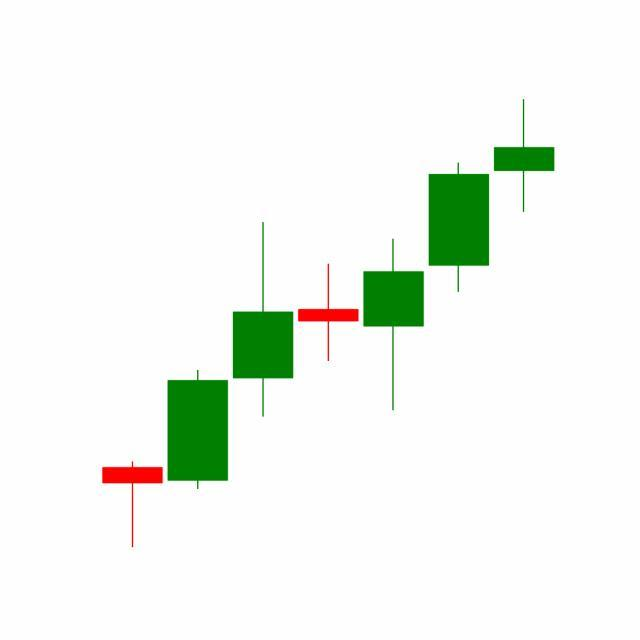Advance Block: (360, 100, 556, 416)
